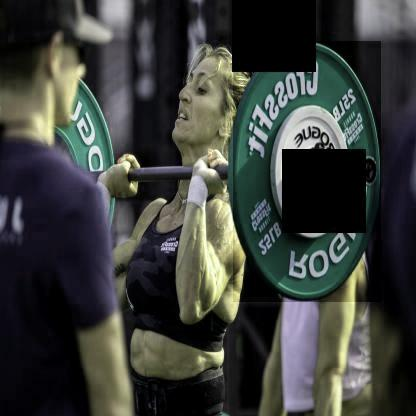barbell: (231, 41, 380, 302)
